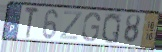6: (41, 8, 59, 41)
8: (122, 14, 142, 46)
G: (81, 12, 102, 43)
Q: (101, 12, 123, 46)
T: (24, 6, 40, 39)
Z: (58, 10, 84, 42)
